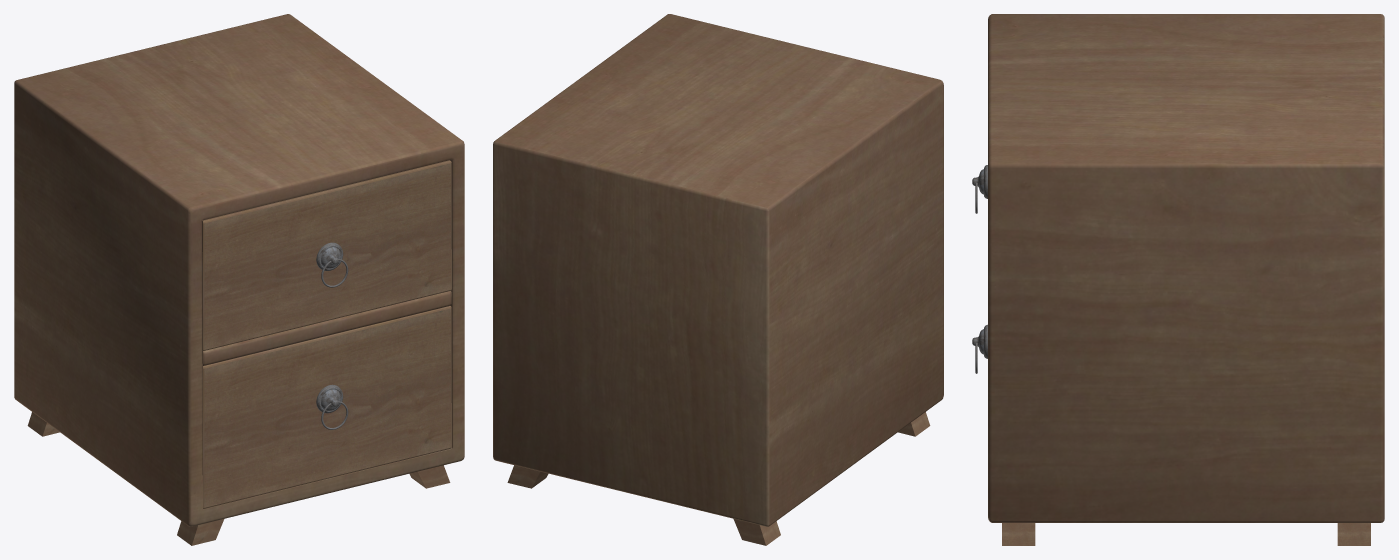
The model's file is Mesa_de_noche.fbx.
3 renders of one model, left to right at view 1: azimuth 30°, elevation 25°; view 2: azimuth 150°, elevation 25°; view 3: azimuth 270°, elevation 25°, orthographic. The views are drawn at different scales.
Visible parts, largest first — view 1: Mesa_de_noche, Cajon2_Mesa_de_noche, Cajon1_Mesa_de_noche, Cube.020, BezierCircle, BezierCircle.001, Cube.024; view 2: Mesa_de_noche, Cube.022, Cube.023; view 3: Mesa_de_noche, Cube.023, Cube.024.
Part boxes in pixels (bbox=[...]): Mesa_de_noche: bbox=[14, 14, 464, 526]; Cajon2_Mesa_de_noche: bbox=[203, 306, 451, 508]; Cajon1_Mesa_de_noche: bbox=[202, 160, 451, 350]; Cube.020: bbox=[177, 519, 224, 545]; BezierCircle: bbox=[316, 242, 348, 287]; BezierCircle.001: bbox=[316, 384, 348, 429]; Cube.024: bbox=[409, 465, 450, 488]; Mesa_de_noche: bbox=[493, 14, 943, 526]; Cube.022: bbox=[733, 518, 780, 545]; Cube.023: bbox=[507, 465, 548, 488]; Mesa_de_noche: bbox=[988, 14, 1384, 522]; Cube.023: bbox=[1337, 523, 1370, 545]; Cube.024: bbox=[1002, 523, 1035, 545].
Size of the model in its own units: 409 by 485 by 469.
